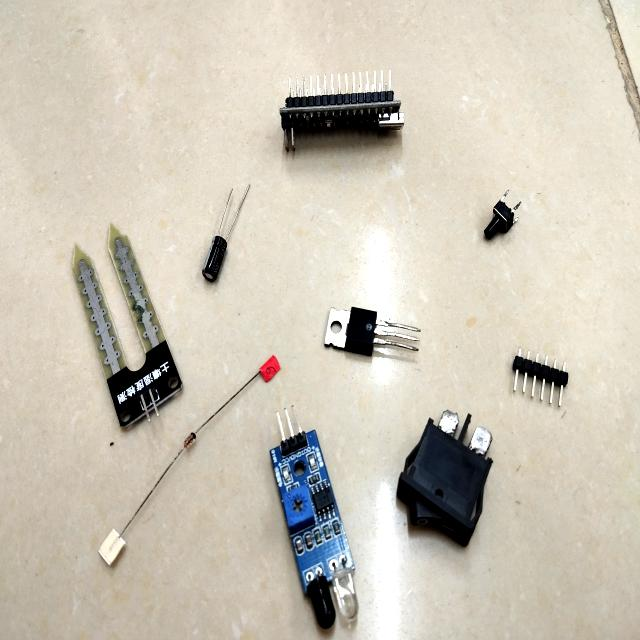capacitor: (202, 236, 228, 283)
